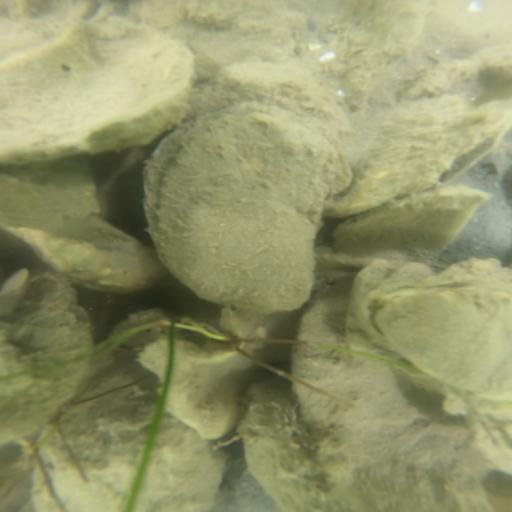Oyster-Closed: (294, 346, 495, 512), (1, 13, 197, 171), (321, 92, 506, 220), (238, 378, 359, 512), (1, 277, 96, 445), (39, 376, 157, 511), (334, 183, 490, 270), (137, 412, 228, 512)
Oyster-Open: (136, 102, 352, 316), (362, 280, 512, 407)
